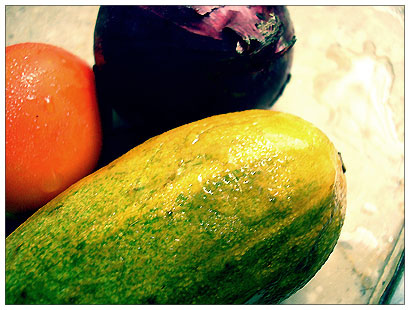cucumber: (4, 107, 348, 305)
